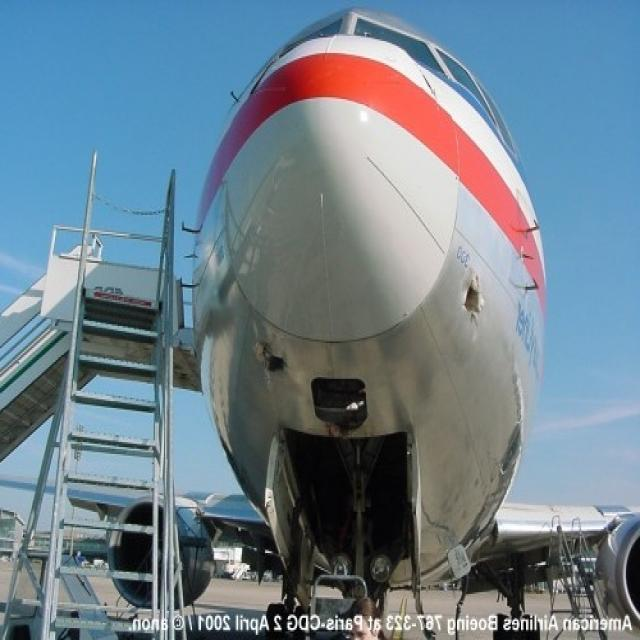dent: (452, 266, 484, 319), (256, 344, 282, 380)
